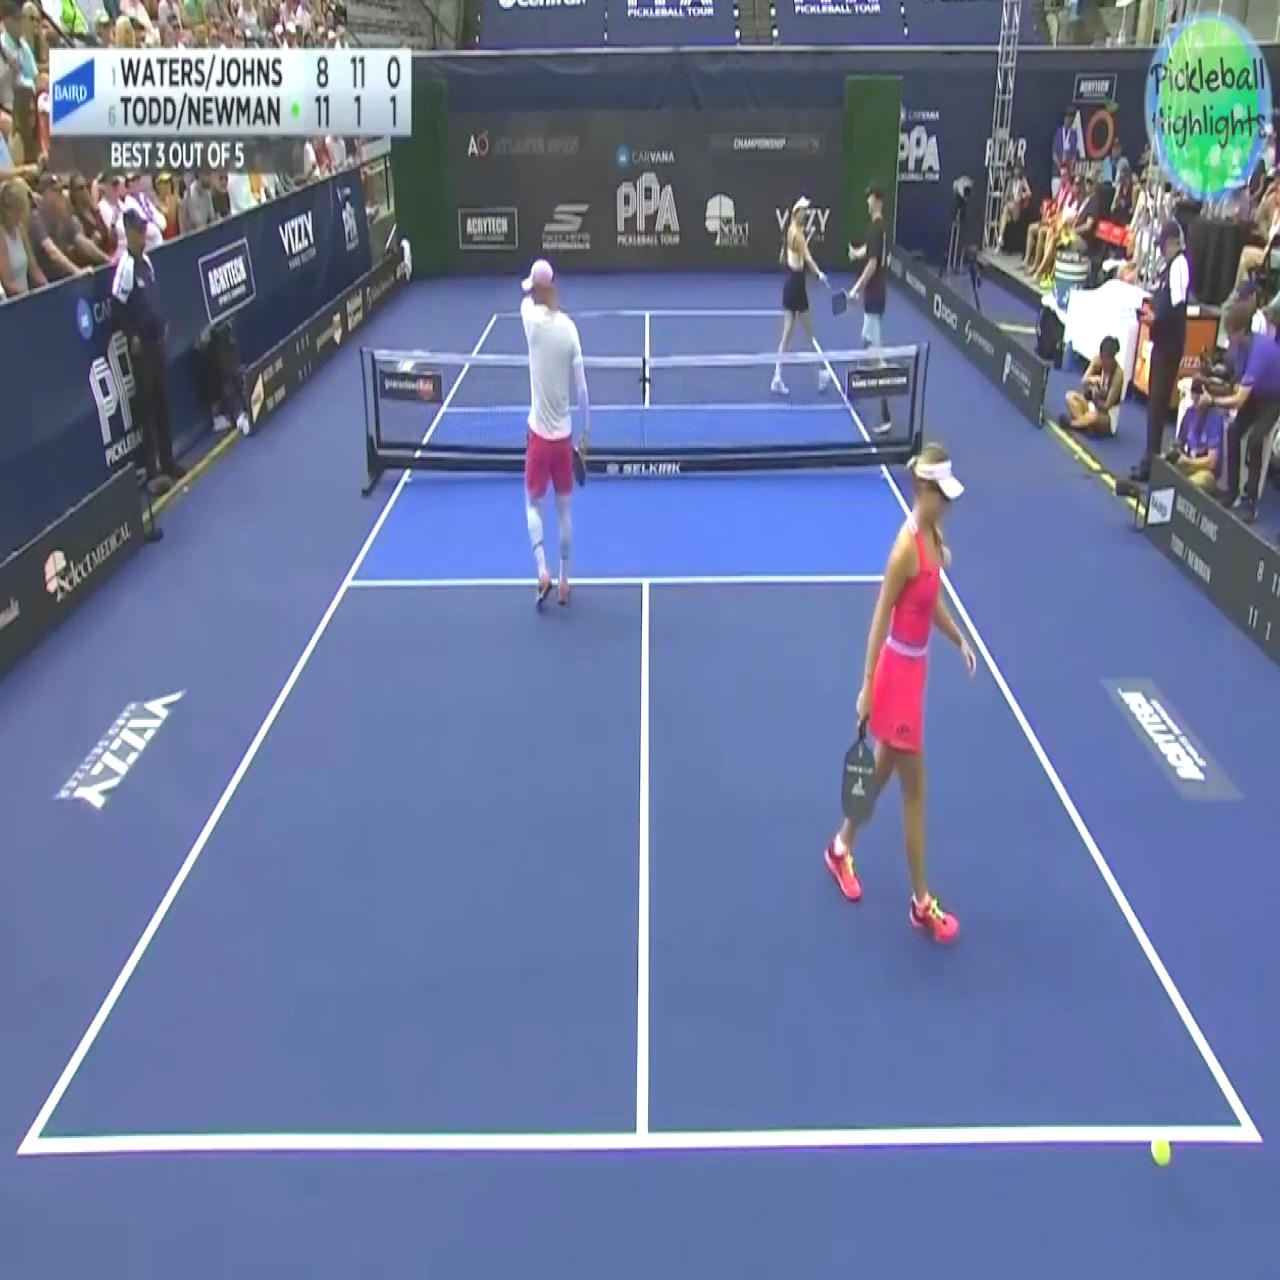Pickleball: (1149, 1130, 1178, 1165)
